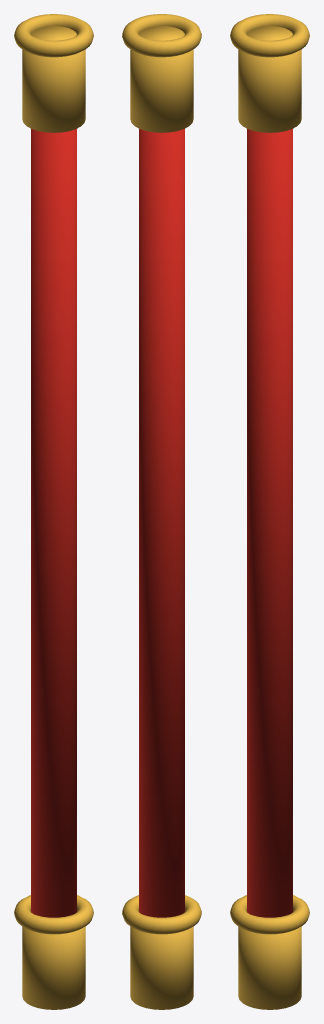
Rendered from baston_ruyi.glb.
3 renders of one model, left to right at view 1: azimuth 90°, elevation 25°; view 2: azimuth 150°, elevation 25°; view 3: azimuth 270°, elevation 25°, orthographic.
Visible parts, largest first — view 1: baston_ruyi_fijo; view 2: baston_ruyi_fijo; view 3: baston_ruyi_fijo.
Boxes of the visible parts, x1,y1,x2,y2 form: baston_ruyi_fijo: (14, 14, 93, 1009); baston_ruyi_fijo: (122, 14, 201, 1009); baston_ruyi_fijo: (230, 14, 309, 1009).
Bounding box in the file's own units: 0.19 × 2.54 × 0.19.
Materials: 1 (1 with a texture image).
